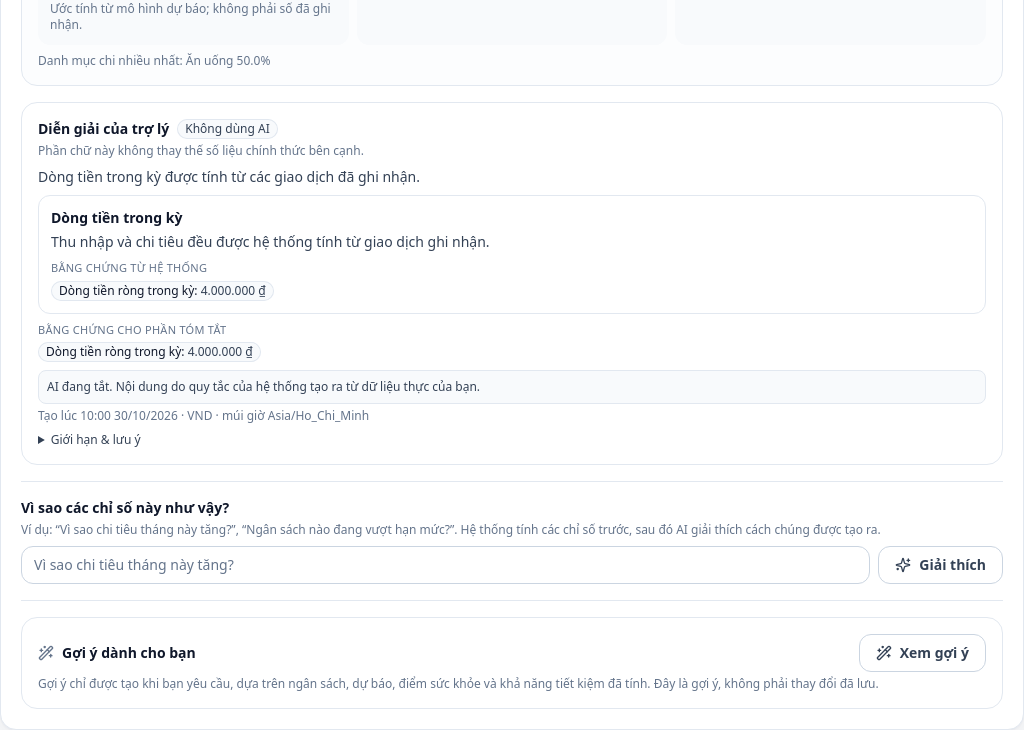
Test case: AnalyticsAiPanel — explanation › sends the question and renders backend evidence for each section
The image size is (1024, 730).
(page scrolled)
Expected: the element with test id "ai-analytics-summary-text" is shown, [21,102,1003,465]
Type "Vì sao chi tiêu tăng?" into the field named "Câu hỏi cần giải thích" at (446, 565), box [21,546,870,584]
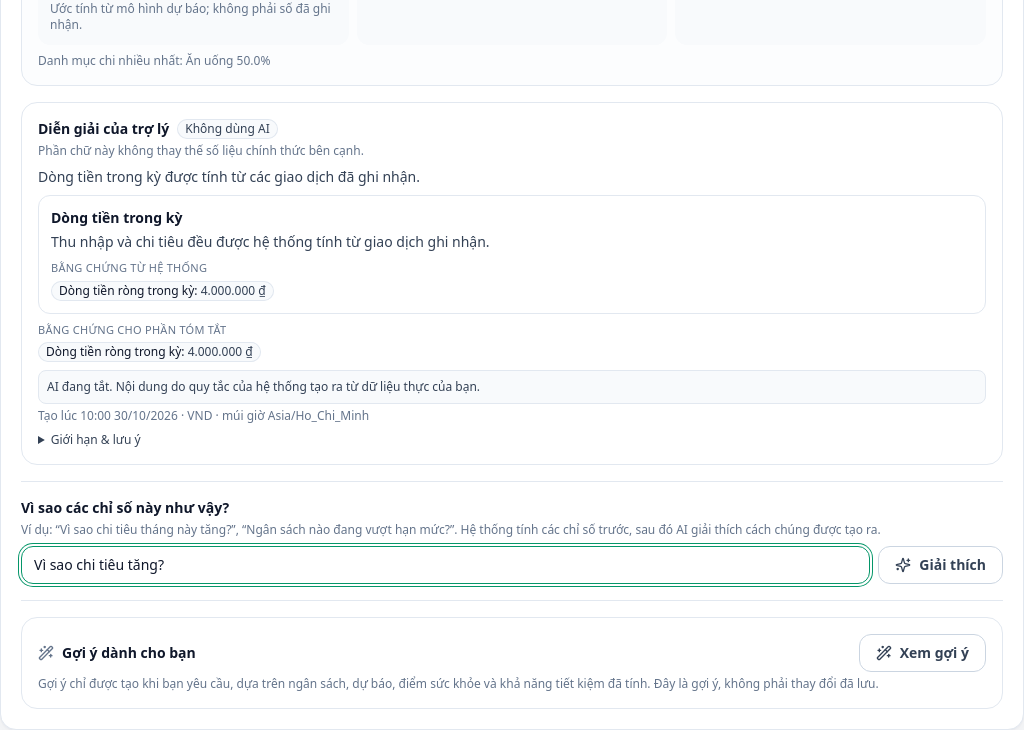
Click the button "Giải thích" at (941, 565), box [878,546,1003,584]
(page scrolled)
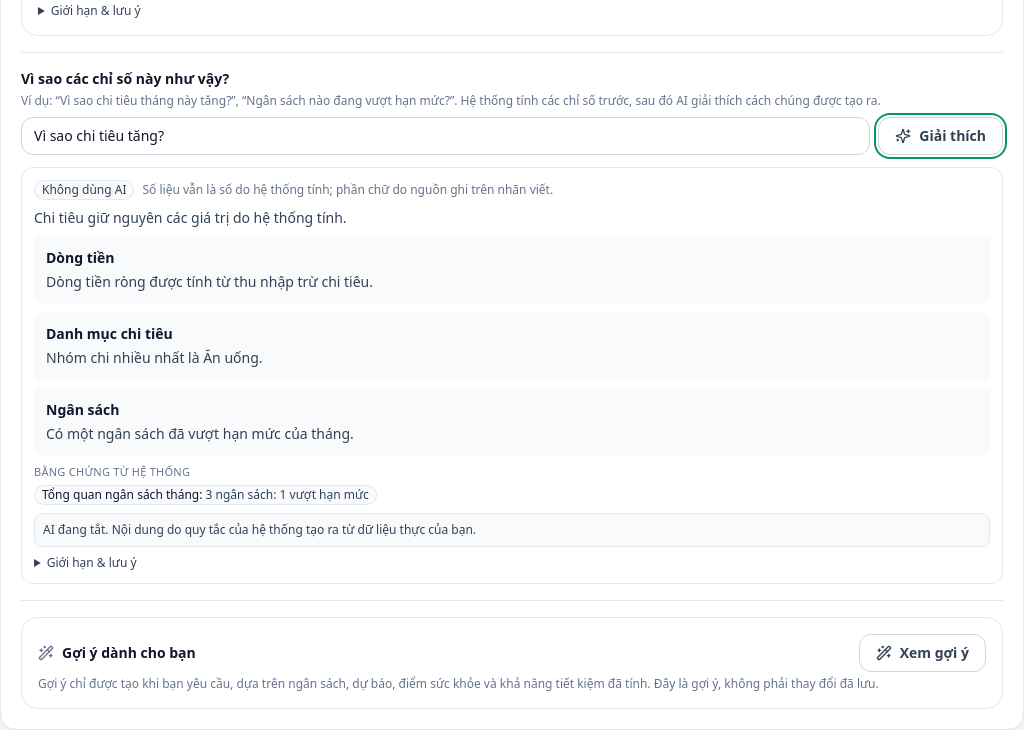
Expected: the text "Nhóm chi nhiều nhất là Ăn uống." is shown, [46,348,263,367]
Expected: the text "Tổng quan ngân sách tháng:" is shown, [42,486,206,502]
